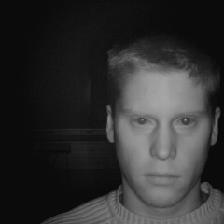normal: (94, 40, 224, 205)
